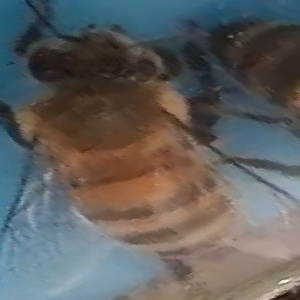bee: (7, 18, 243, 285), (207, 10, 300, 124)
